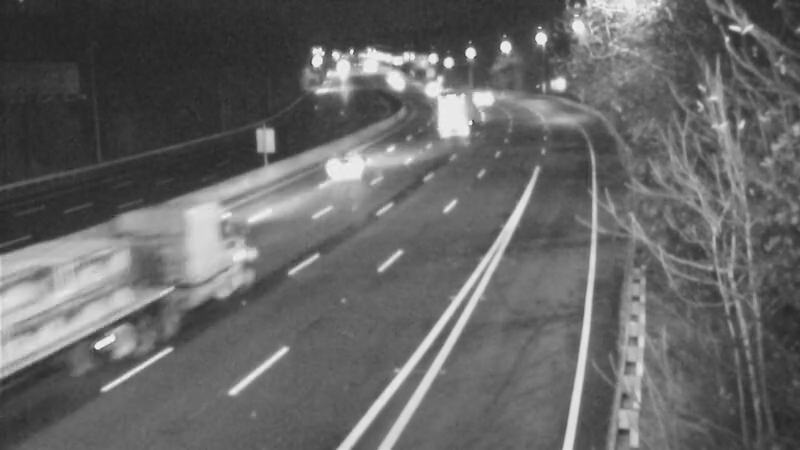vehicle: (299, 129, 379, 209), (92, 246, 172, 326), (371, 60, 421, 110), (403, 63, 453, 113), (458, 72, 508, 122), (434, 81, 484, 131)
